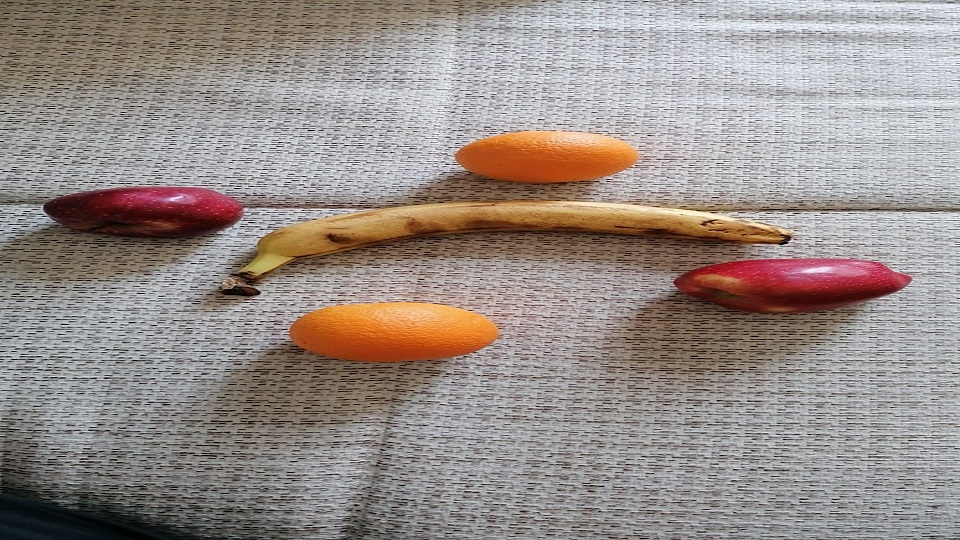elma: (671, 256, 913, 316), (42, 185, 247, 240)
muz: (233, 199, 791, 290)
portakal: (288, 301, 500, 365), (455, 130, 639, 185)
